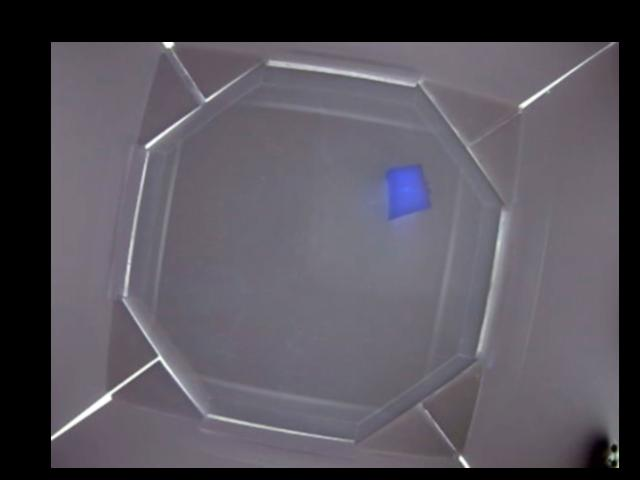Potato: (385, 165, 429, 220)
